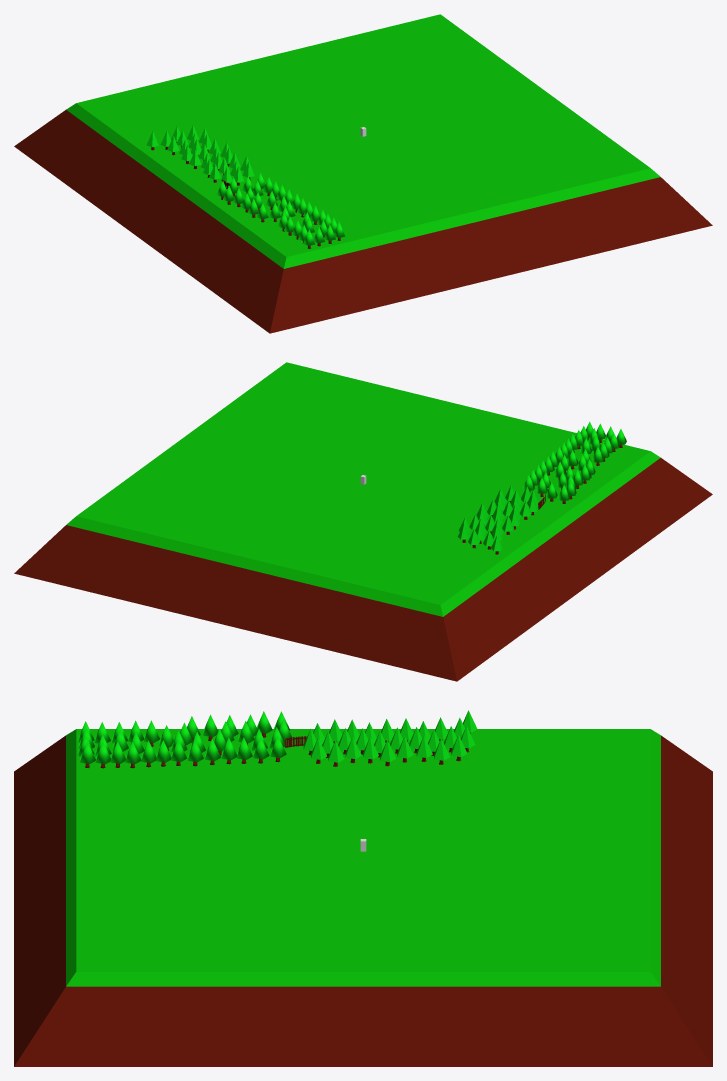
File: LEVEL02_ATTEMPT_A_Forest.glb
3 renders of one model, top to bottom at view 1: azimuth 30°, elevation 25°; view 2: azimuth 150°, elevation 25°; view 3: azimuth 270°, elevation 25°, orthographic. The views are drawn at different scales.
Parts seen in each view (by area): view 1: Cube; view 2: Cube; view 3: Cube.
Boxes of the visible parts, box(x1,y1,x2,y2) form: Cube: box(14, 14, 712, 333); Cube: box(14, 362, 712, 681); Cube: box(14, 729, 712, 1066).
Bounding box in the file's own units: 122 × 18.24 × 122.
